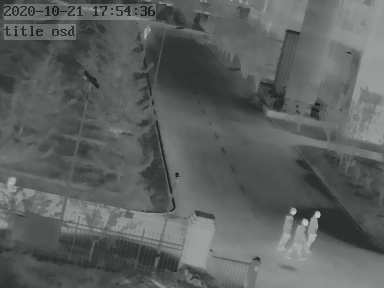person: (277, 202, 296, 251), (288, 216, 309, 260), (308, 208, 326, 254), (142, 25, 151, 40)
